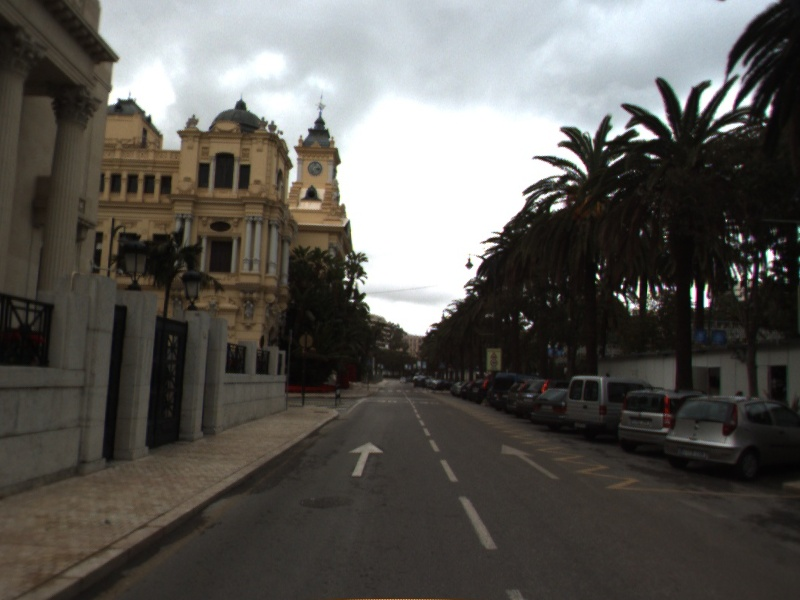STRAIGHT: (499, 442, 562, 481), (346, 439, 386, 478)
